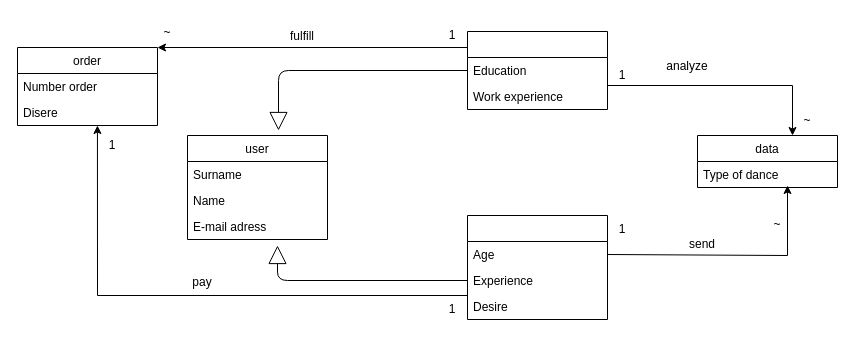
This 855x339 diagram has some shape labels left out. The box of each missing label's shape, as (x1, y1, x2, y2) in pixels:
lector: (466, 30, 608, 110)
student: (466, 214, 608, 320)
